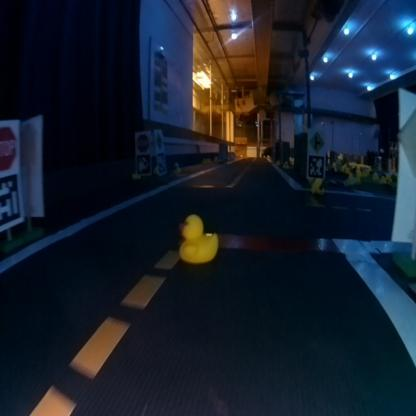duckie: (172, 204, 229, 264)
